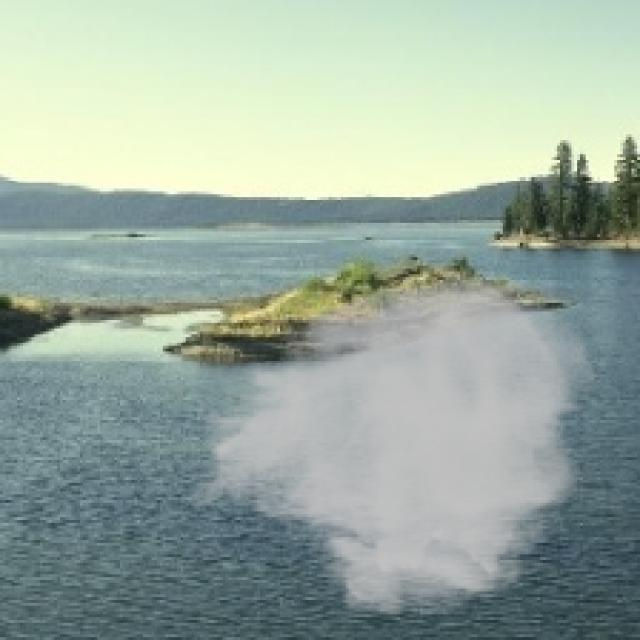smoke: (183, 269, 600, 620)
